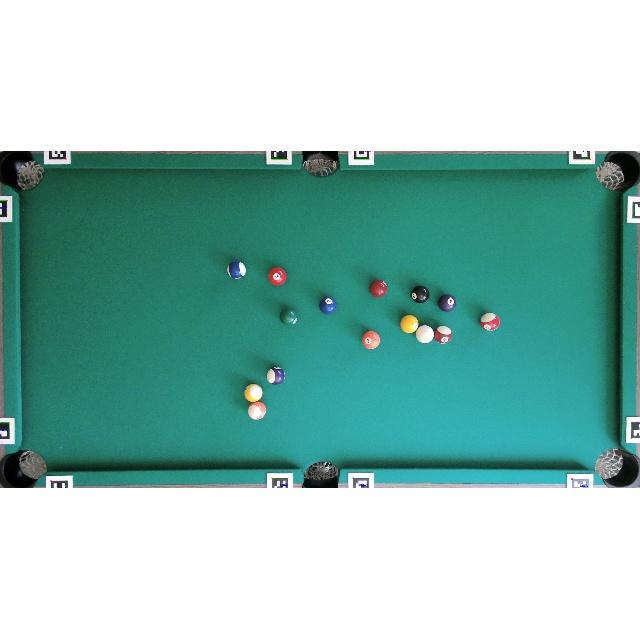cue ball: (415, 325, 434, 343)
other: (227, 260, 246, 280), (268, 266, 287, 286), (369, 279, 388, 298), (410, 285, 430, 303), (362, 330, 380, 350), (248, 402, 266, 421), (266, 366, 284, 385), (400, 315, 419, 333), (244, 384, 263, 402), (481, 313, 500, 331), (438, 294, 456, 312), (319, 296, 337, 314), (434, 326, 452, 344), (280, 309, 298, 326)
